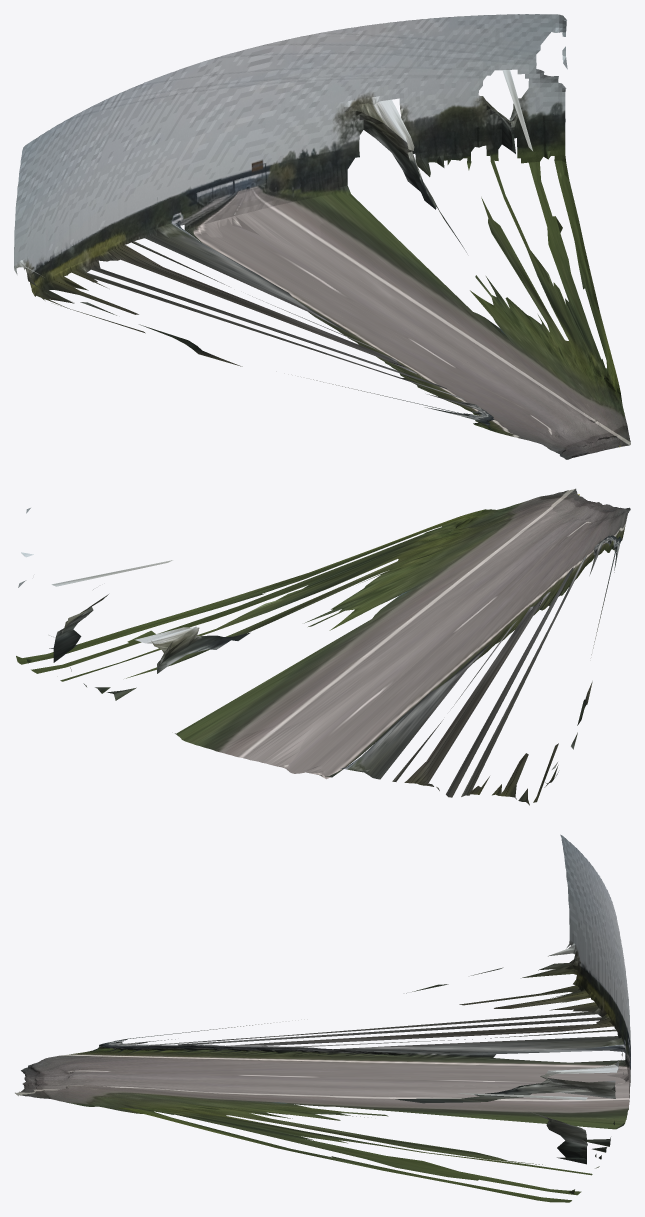
The picture shows the model from 3 angles, top to bottom: view 1: azimuth 30°, elevation 25°; view 2: azimuth 150°, elevation 25°; view 3: azimuth 270°, elevation 25°; orthographic projection. The views are drawn at different scales.
Visible parts, largest first — view 1: defaultobject; view 2: defaultobject; view 3: defaultobject.
Boxes of the visible parts, x1,y1,x2,y2 form: defaultobject: (14, 14, 630, 459); defaultobject: (16, 488, 630, 805); defaultobject: (15, 834, 630, 1202).
Bounding box in the file's own units: 41.16 × 12.57 × 44.96.
1 material, 1 textured.
